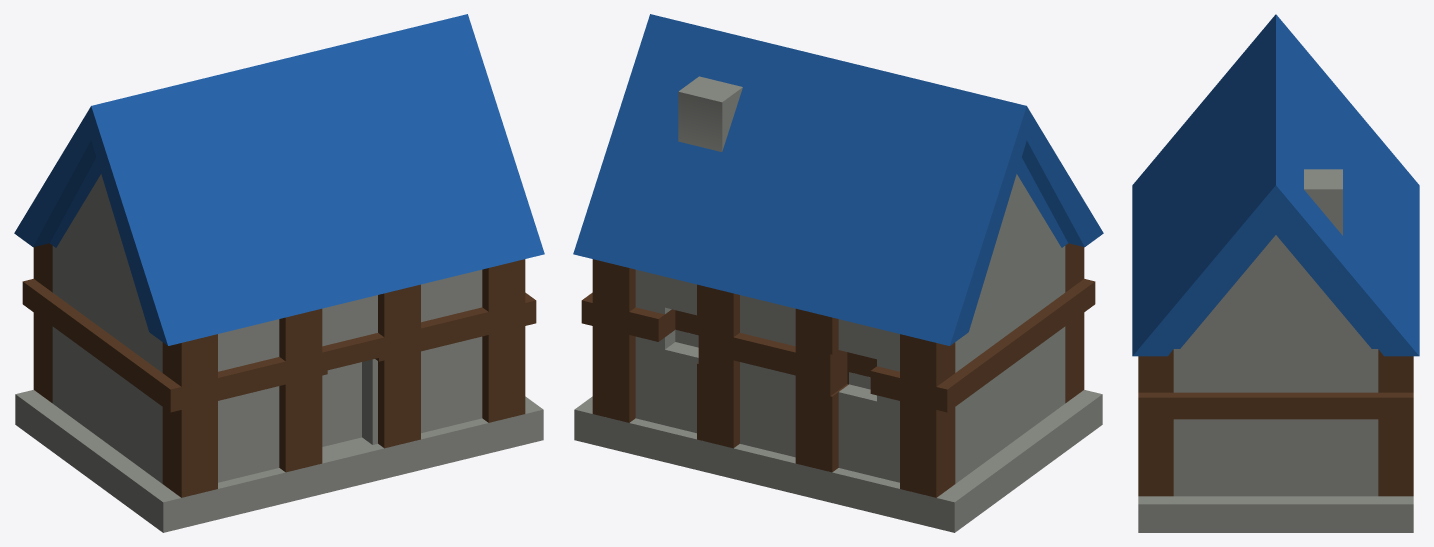
Rendered from gehoeft_blau.glb.
3 renders of one model, left to right at view 1: azimuth 30°, elevation 25°; view 2: azimuth 150°, elevation 25°; view 3: azimuth 270°, elevation 25°, orthographic. The views are drawn at different scales.
Parts seen in each view (by area): view 1: gehoeft_blau; view 2: gehoeft_blau; view 3: gehoeft_blau.
Boxes of the visible parts, box(x1,y1,x2,y2) form: gehoeft_blau: box(14, 14, 544, 532); gehoeft_blau: box(573, 14, 1103, 532); gehoeft_blau: box(1132, 14, 1419, 532).
Bounding box in the file's own units: 10.4 × 9.74 × 7.3.
